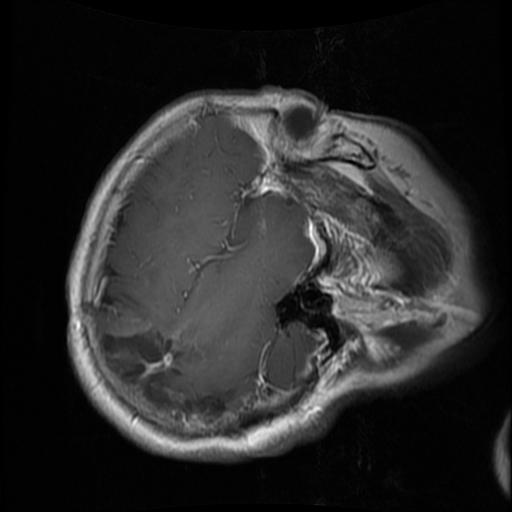glioma: (97, 330, 233, 419)
